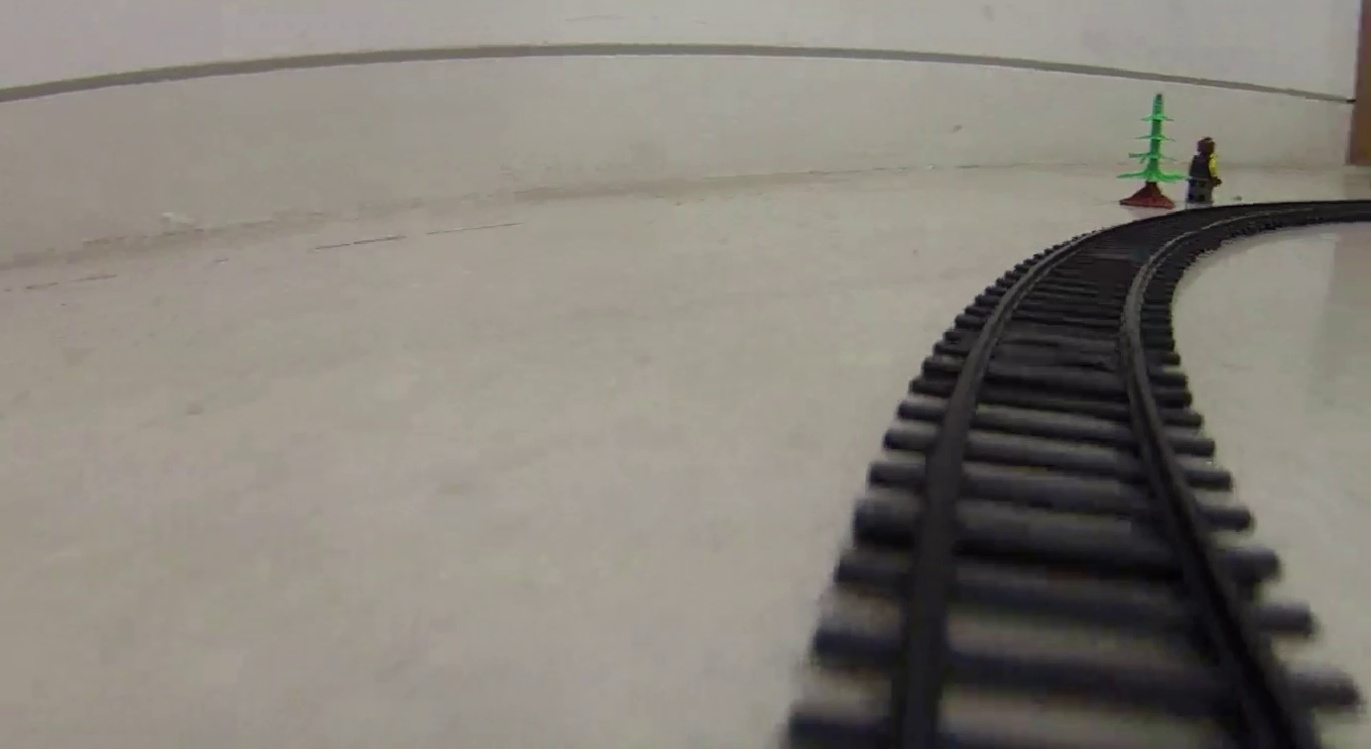people: (1189, 137, 1222, 204)
tree: (1114, 92, 1189, 210)
